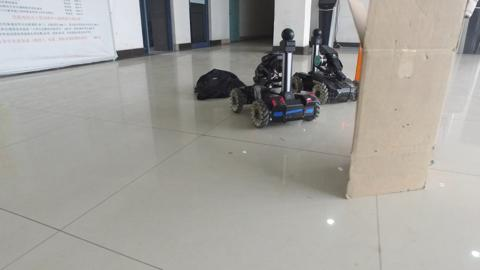box: (355, 3, 438, 196)
chariot: (233, 32, 323, 129), (307, 28, 356, 103)
